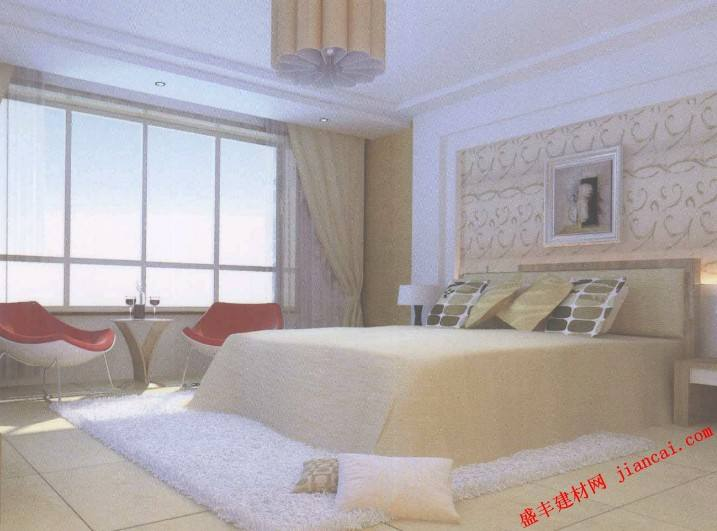床: (161, 317, 687, 475)
枕头: (428, 271, 635, 336), (296, 449, 461, 522)
灯: (265, 3, 393, 91), (396, 281, 430, 325), (150, 78, 166, 91)
